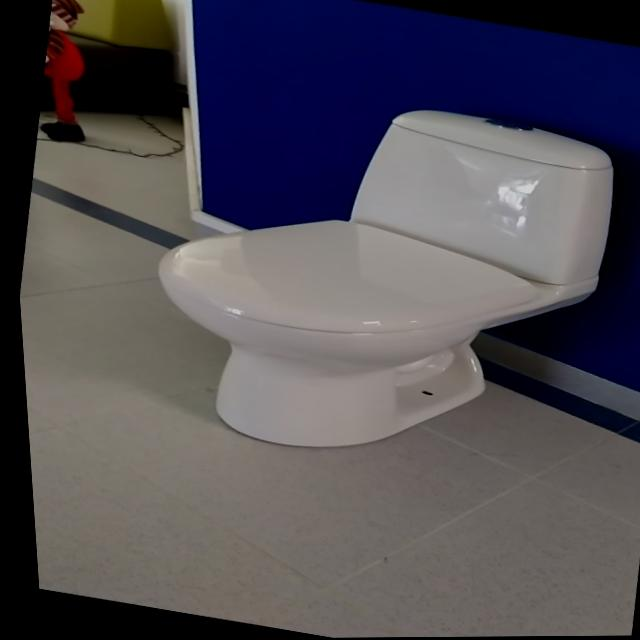toilet: (115, 62, 636, 498)
